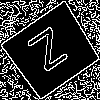Z: (26, 26, 76, 81)
